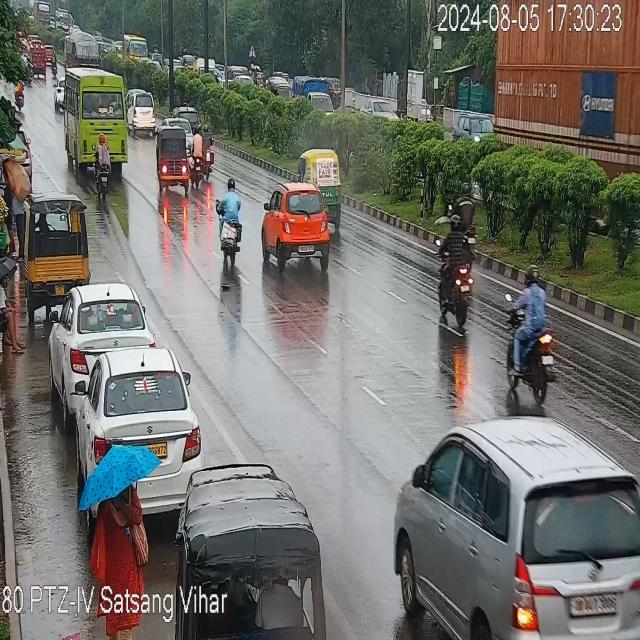2-wheelers: (507, 266, 554, 400), (435, 212, 471, 326), (220, 180, 244, 278), (194, 120, 222, 173), (92, 128, 109, 200)
auto: (24, 192, 92, 320), (153, 127, 189, 195)
bus: (61, 65, 133, 176), (126, 34, 150, 60)
car: (390, 416, 640, 640), (48, 296, 204, 506), (49, 282, 155, 418), (261, 179, 333, 269), (126, 89, 158, 141)
pedestrian: (87, 482, 153, 638), (1, 255, 30, 360), (0, 163, 21, 254)
truck: (478, 0, 640, 186)
